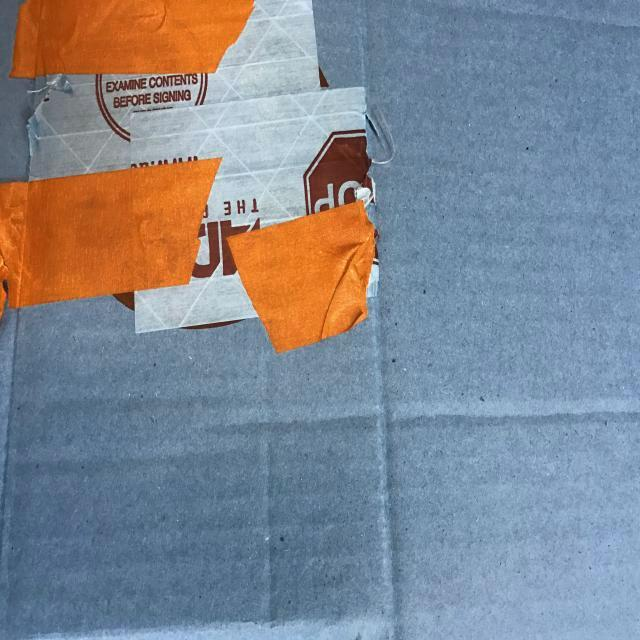cardboard: (0, 0, 390, 365)
